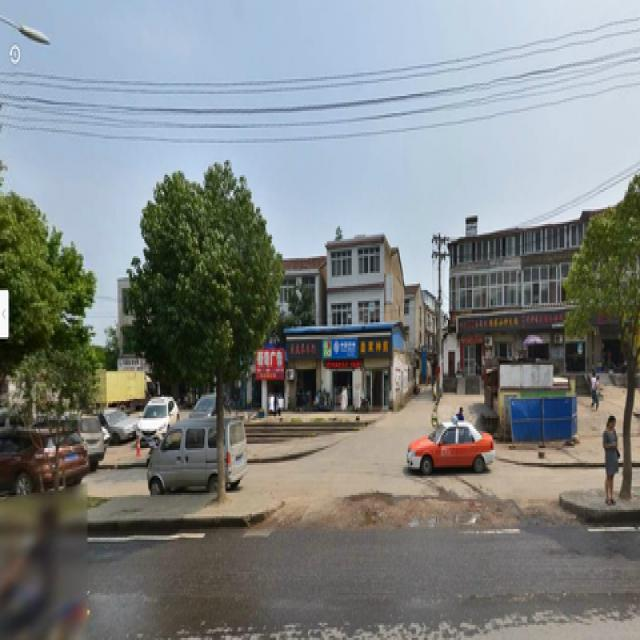cinn: (133, 160, 283, 499)
